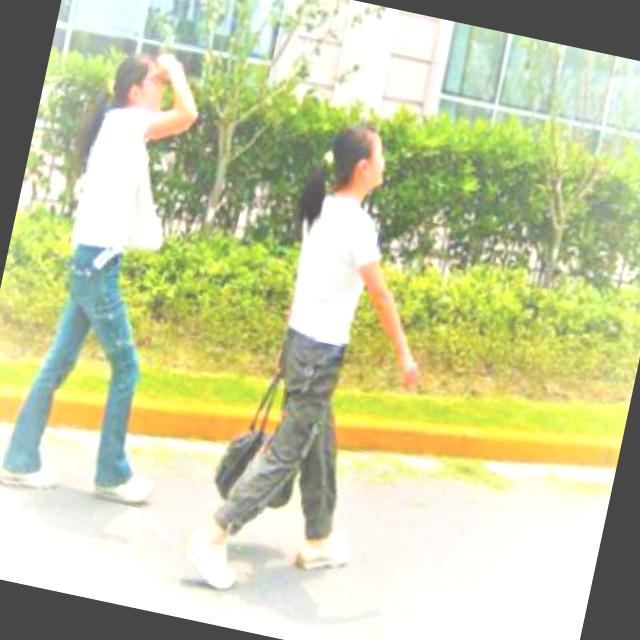Person: (173, 106, 464, 624), (0, 32, 243, 515)
